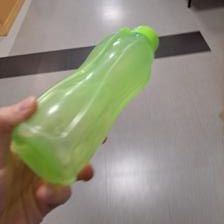bottle: (10, 23, 161, 188)
